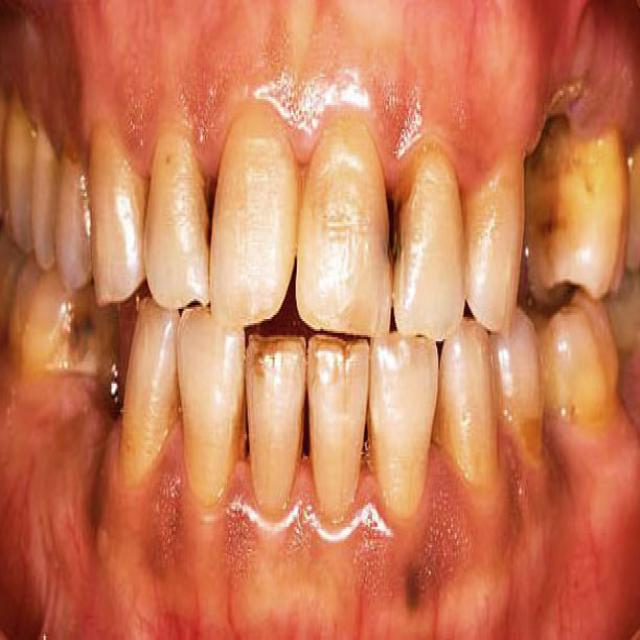caries: (191, 163, 225, 255), (380, 172, 410, 270)
